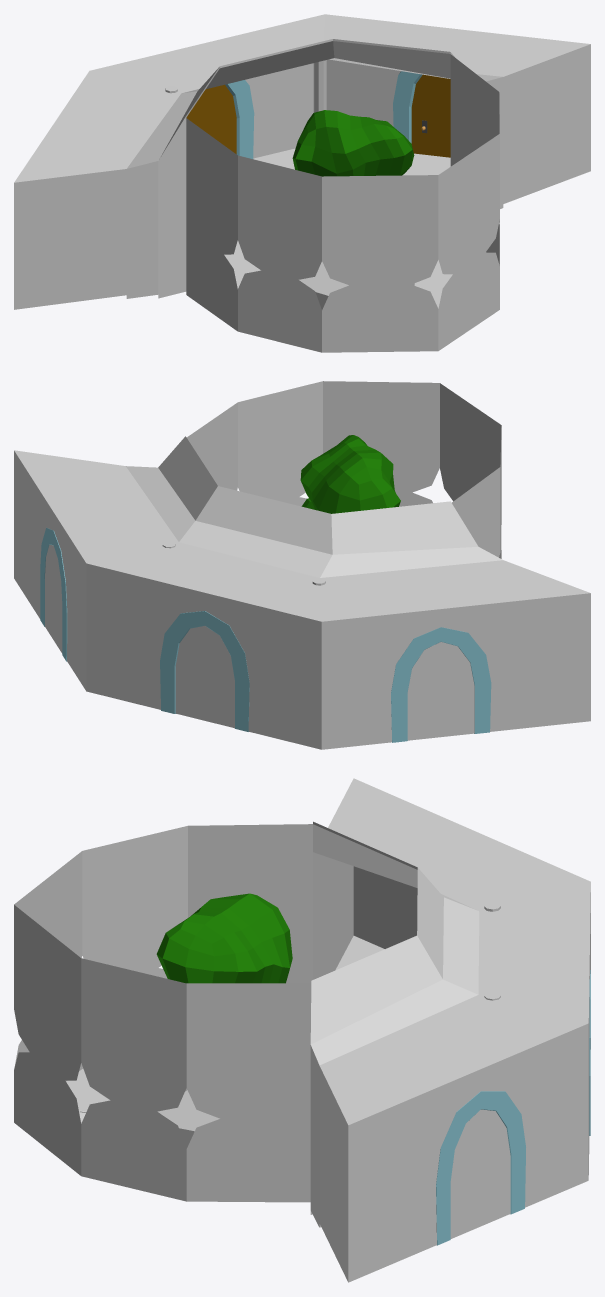
Rendered from hub.fbx.
3 views of the same model, one above another, from view 1: azimuth 30°, elevation 25°; view 2: azimuth 150°, elevation 25°; view 3: azimuth 270°, elevation 25° (orthographic). The views are drawn at different scales.
Parts seen in each view (by area): view 1: estrutura, folgagrande, porta2, porta3, batente.001, batente, pilardireita, terra; view 2: estrutura, folgagrande, batente.002, batente.001, batente; view 3: estrutura, folgagrande, batente, terra.
Boxes of the visible parts, x1,y1,x2,y2 form: estrutura: (14, 14, 590, 352); folgagrande: (292, 110, 414, 176); porta2: (411, 74, 450, 157); porta3: (186, 84, 236, 154); batente.001: (225, 80, 254, 158); batente: (393, 71, 422, 143); pilardireita: (313, 60, 326, 112); terra: (307, 262, 348, 290); estrutura: (14, 381, 590, 749); folgagrande: (300, 435, 400, 513); batente.002: (391, 627, 491, 742); batente.001: (160, 611, 249, 731); batente: (40, 527, 67, 661); estrutura: (14, 778, 590, 1282); folgagrande: (156, 893, 292, 983); batente: (436, 1091, 525, 1245); terra: (168, 1090, 219, 1125).
Bounding box in the file's own units: 12757 × 3854 × 8960.
